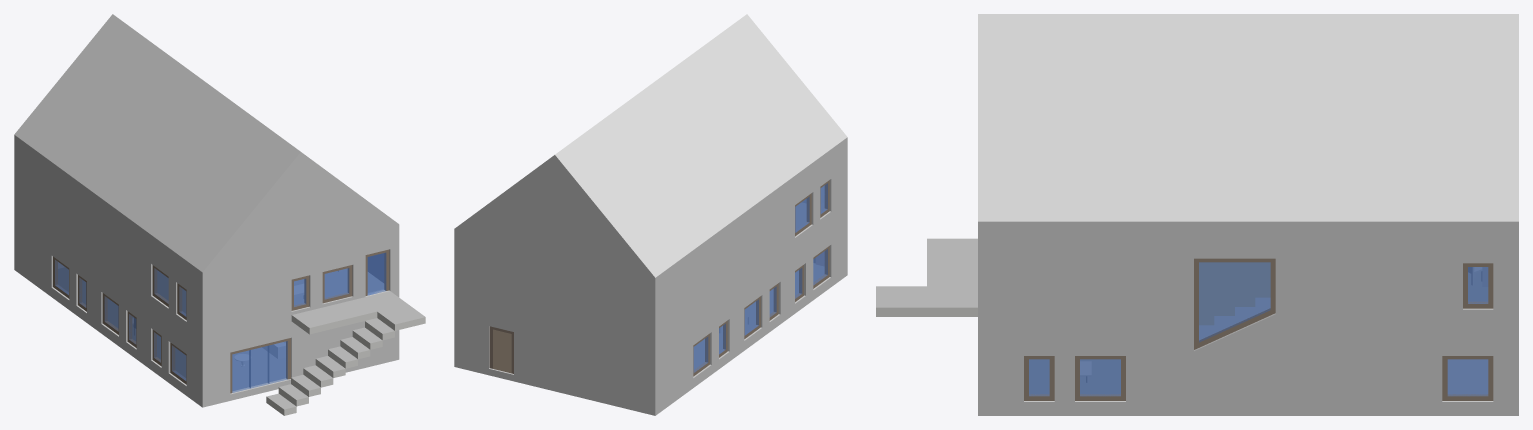
The model's file is gable.fbx.
3 renders of one model, left to right at view 1: azimuth 30°, elevation 25°; view 2: azimuth 150°, elevation 25°; view 3: azimuth 270°, elevation 25°, orthographic. The views are drawn at different scales.
Parts seen in each view (by area): view 1: n_dak_2_1, n_woning_2_1, n_vloer1, n_ondergrond_2_1, n_deur_glas2, n_deur_glas4, n_deur_glas1, n_deur_glas3, n_raam_d7, n_kozijn1_1, n_kozijn_r1_1, n_kozijn6 (+3 smaller); view 2: n_woning_2_1, n_dak_2_1, n_ondergrond_2_1, n_deur1, n_raam_d1, n_raam_d2, n_raam_d3, n_raam_d4; view 3: n_dak_2_1, n_woning_2_1, n_ondergrond_2_1, n_vloer1, n_raam_trap1, n_wanden1, n_kozijn_3_1, n_raam_d6, n_raam_d5, n_kozijn_r1_3, n_trap1, n_kozijn_r1_2 (+4 smaller).
Part boxes in pixels (x1,y1,x2,y2): n_dak_2_1: (14,14,398,272); n_woning_2_1: (14,135,399,401); n_vloer1: (157,269,425,415); n_ondergrond_2_1: (14,264,399,407); n_deur_glas2: (249,345,269,388); n_deur_glas4: (367,252,386,295); n_deur_glas1: (268,341,287,383); n_deur_glas3: (232,350,250,392); n_raam_d7: (324,268,349,299); n_kozijn1_1: (230,338,290,393); n_kozijn_r1_1: (322,265,352,303); n_kozijn6: (365,249,389,295); n_woning_2_1: (454,137,847,409); n_dak_2_1: (454,14,847,277); n_ondergrond_2_1: (454,263,847,415); n_deur1: (493,329,511,373); n_raam_d1: (693,337,708,372); n_raam_d2: (744,299,758,335); n_raam_d3: (813,249,827,285); n_raam_d4: (795,196,809,232); n_dak_2_1: (978,14,1518,221); n_woning_2_1: (978,221,1518,406); n_ondergrond_2_1: (978,359,1518,415); n_vloer1: (876,238,1487,316); n_raam_trap1: (1199,262,1270,342); n_wanden1: (1199,262,1270,324); n_kozijn_3_1: (1194,258,1275,349); n_raam_d6: (1447,359,1488,396); n_raam_d5: (1080,359,1120,396); n_kozijn_r1_3: (1442,356,1493,400); n_trap1: (1199,298,1270,339); n_kozijn_r1_2: (1075,356,1125,400).
Bounding box in the file's own units: 32 × 36 × 63.
